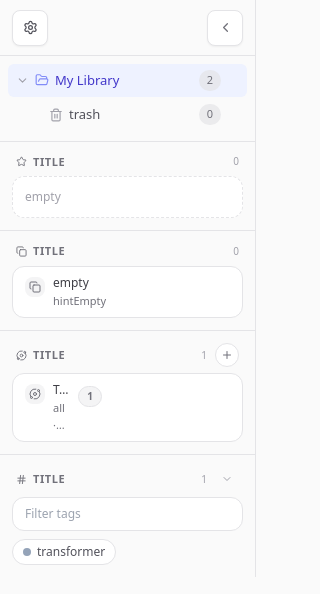
Scenario: FolderSidebar › supports collapsing the tags section
The width and height of the screenshot is (320, 594).
Click the button titled "Hide tags". click: (227, 479)
box: [215,467,239,491]
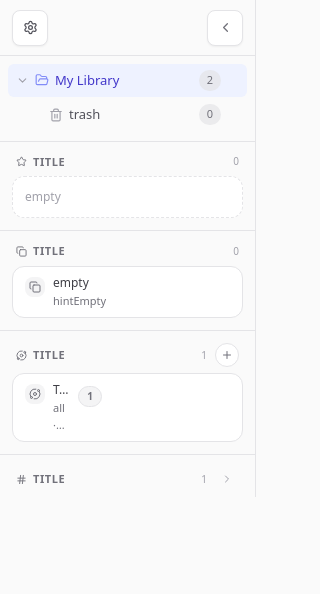
Expected: the field with placeholder "Filter tags" is not shown
Click the button titled "Show tags". click: (227, 479)
box: [215,467,239,491]
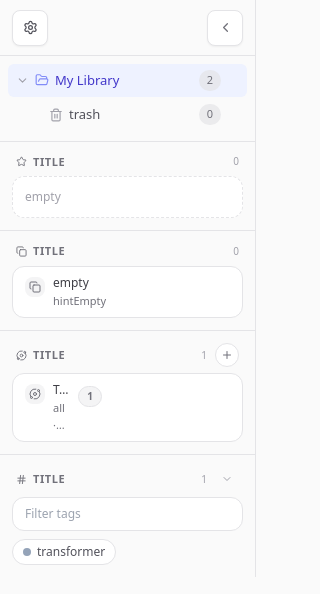
Expected: the field with placeholder "Filter tags" is shown, [25,498,230,530]
